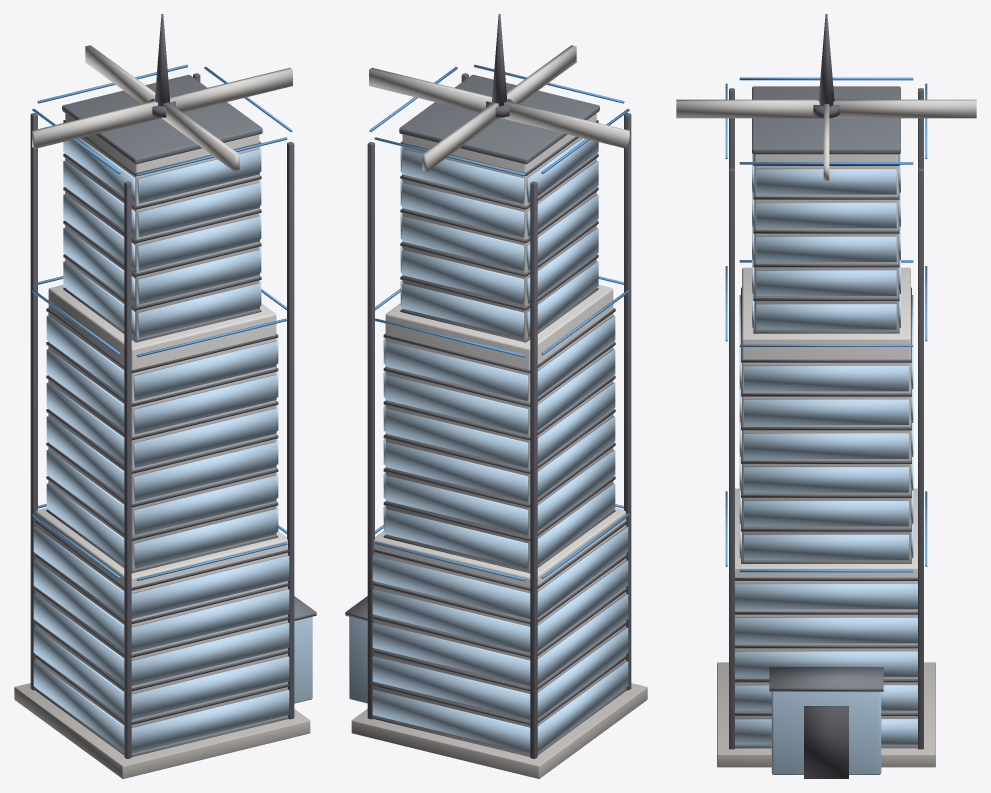
The model's file is model-robotic.glb.
The picture shows the model from 3 angles, left to right: view 1: azimuth 30°, elevation 25°; view 2: azimuth 150°, elevation 25°; view 3: azimuth 270°, elevation 25°; orthographic projection.
Parts seen in each view (by area): view 1: TowerMid, TowerLow, TowerTop, Foundation, Roof, Column_3, Column_2, Glass_L_F1, Glass_L_F0, Glass_L_F2, Glass_L_F4, Glass_L_F3 (+52 smaller); view 2: TowerMid, TowerLow, TowerTop, Foundation, Roof, Column_1, Column_0, Glass_R_F1, Glass_R_F0, Glass_R_F2, Glass_R_F4, Glass_R_F3 (+52 smaller); view 3: TowerMid, Roof, TowerLow, TowerTop, Lobby, Glass_F_F3, Glass_F_F4, Glass_F_F0.001, Glass_F_F1.001, Glass_F_F2.001, Glass_F_F5, Glass_F_F3.001 (+33 smaller).
Part boxes in pixels (bbox=[...]): TowerMid: bbox=[48, 285, 276, 570]; TowerLow: bbox=[35, 508, 287, 754]; TowerTop: bbox=[65, 113, 259, 340]; Foundation: bbox=[14, 683, 310, 778]; Roof: bbox=[62, 74, 262, 164]; Column_3: bbox=[124, 181, 131, 758]; Column_2: bbox=[287, 142, 294, 719]; Glass_L_F1: bbox=[131, 656, 289, 719]; Glass_L_F0: bbox=[131, 689, 289, 753]; Glass_L_F2: bbox=[131, 622, 289, 685]; Glass_L_F4: bbox=[131, 555, 289, 618]; Glass_L_F3: bbox=[131, 589, 289, 652]; TowerMid: bbox=[385, 285, 613, 570]; TowerLow: bbox=[374, 508, 626, 754]; TowerTop: bbox=[402, 113, 596, 340]; Foundation: bbox=[351, 683, 647, 778]; Roof: bbox=[399, 74, 599, 164]; Column_1: bbox=[530, 181, 537, 758]; Column_0: bbox=[367, 142, 374, 719]; Glass_R_F1: bbox=[372, 656, 530, 719]; Glass_R_F0: bbox=[372, 689, 530, 753]; Glass_R_F2: bbox=[372, 622, 530, 685]; Glass_R_F4: bbox=[372, 555, 530, 618]; Glass_R_F3: bbox=[372, 589, 530, 652]; TowerMid: bbox=[742, 267, 910, 562]; Roof: bbox=[752, 86, 900, 154]; TowerLow: bbox=[735, 488, 917, 746]; TowerTop: bbox=[754, 154, 898, 331]; Lobby: bbox=[771, 691, 881, 774]; Glass_F_F3: bbox=[735, 617, 917, 643]; Glass_F_F4: bbox=[735, 583, 917, 609]; Glass_F_F0.001: bbox=[744, 534, 908, 560]; Glass_F_F1.001: bbox=[744, 500, 908, 526]; Glass_F_F2.001: bbox=[744, 466, 908, 492]; Glass_F_F5: bbox=[744, 365, 908, 391]; Glass_F_F3.001: bbox=[744, 433, 908, 458].
Size of what is drawn, in the model's own units: 6.04 by 15.7 by 6.04.
